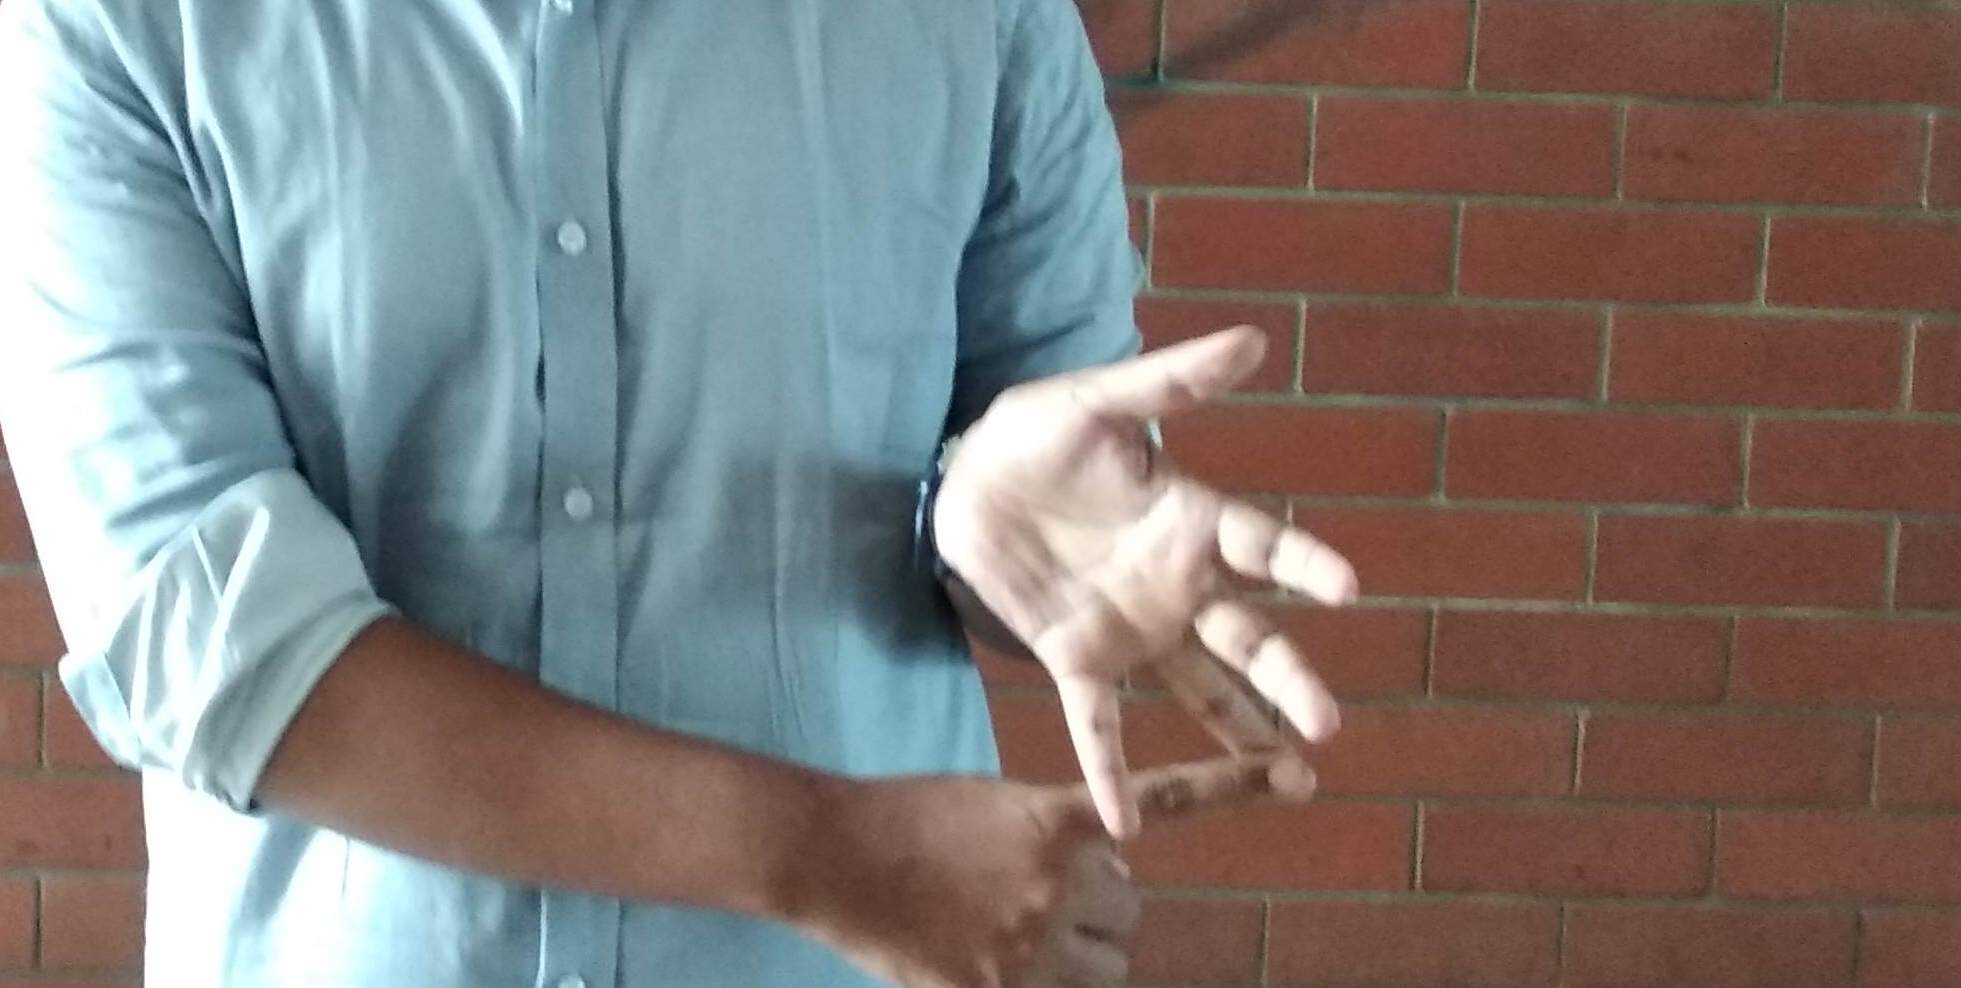e: (917, 446, 1367, 983)
